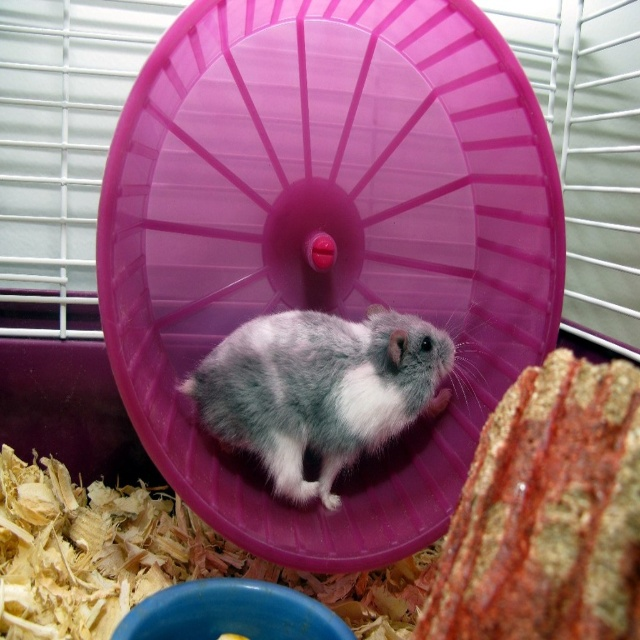Mouse: (172, 310, 478, 513)
